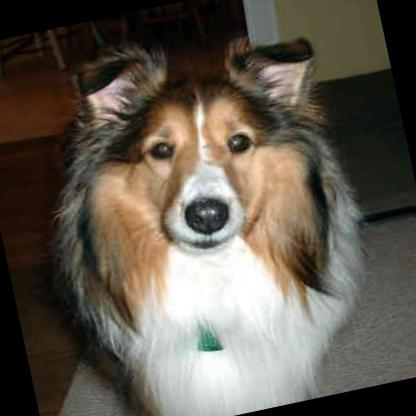Shetland_sheepdog: (2, 0, 396, 416)
